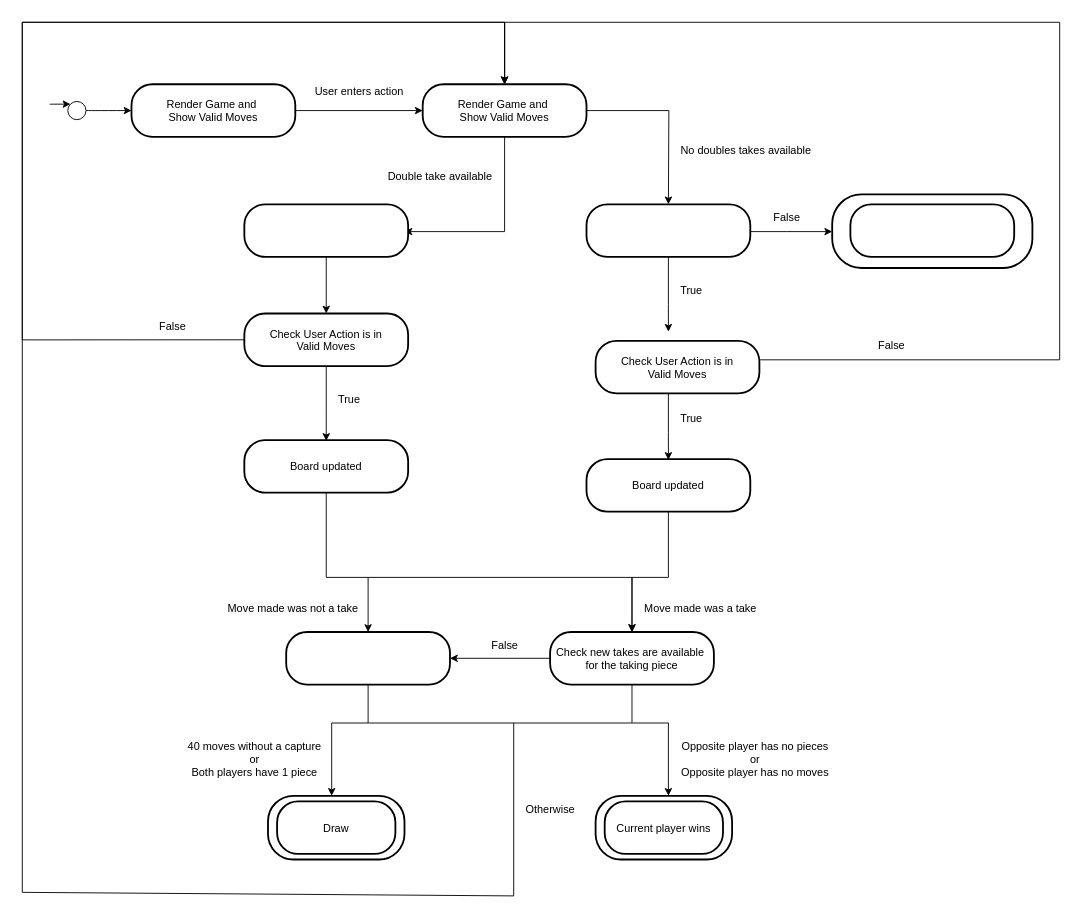
Some shapes in this 1083 by 919 pixel diagram are drawn without their labels. The centre of each missing label's shape, as x and y in pixels:
Check Valid Moves are available: point 668,230
Get available double moves: point 326,230
Opposite Player Wins: point 932,230
Switch player: point 367,658
